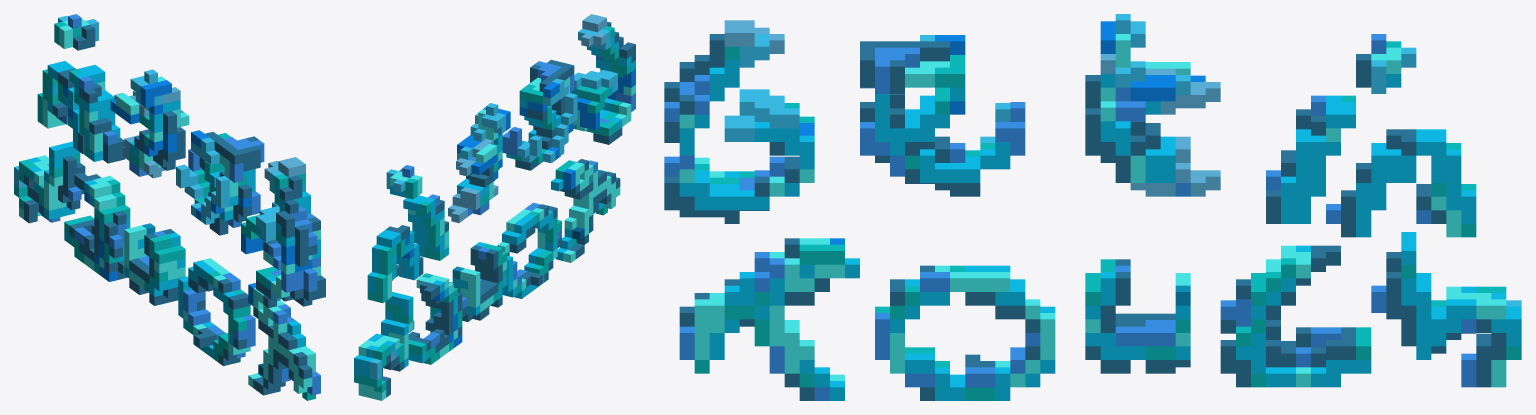
File: getintouch.glb
3 views of the same model, side by side, from view 1: azimuth 30°, elevation 25°; view 2: azimuth 150°, elevation 25°; view 3: azimuth 270°, elevation 25° (orthographic). The views are drawn at different scales.
Parts seen in each view (by area): view 1: Untitled; view 2: Untitled; view 3: Untitled.
Boxes of the visible parts, x1,y1,x2,y2 form: Untitled: (14,14,325,400); Untitled: (354,14,635,400); Untitled: (664,14,1521,400).
Size of the model in its own units: 0.5 by 2.7 by 5.7.
1 material, 1 textured.
